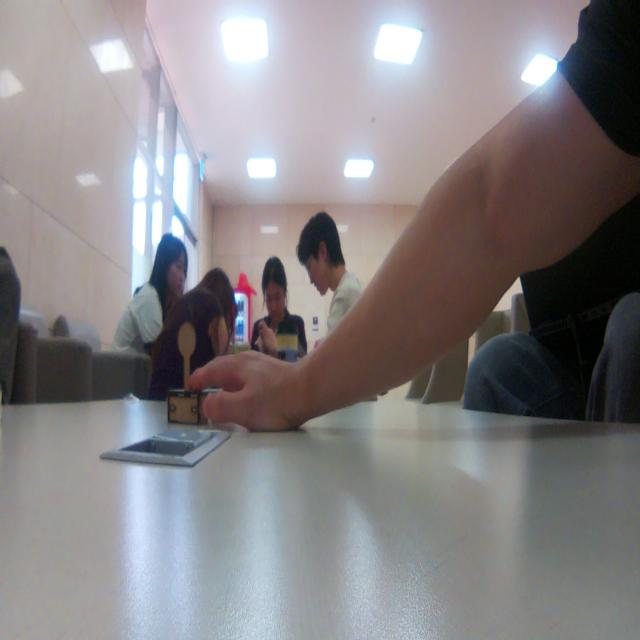target: (167, 321, 199, 425)
